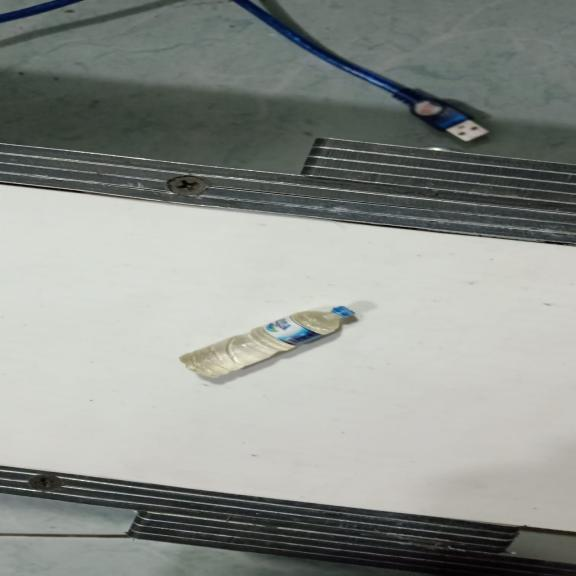Plastik: (178, 306, 356, 379)
